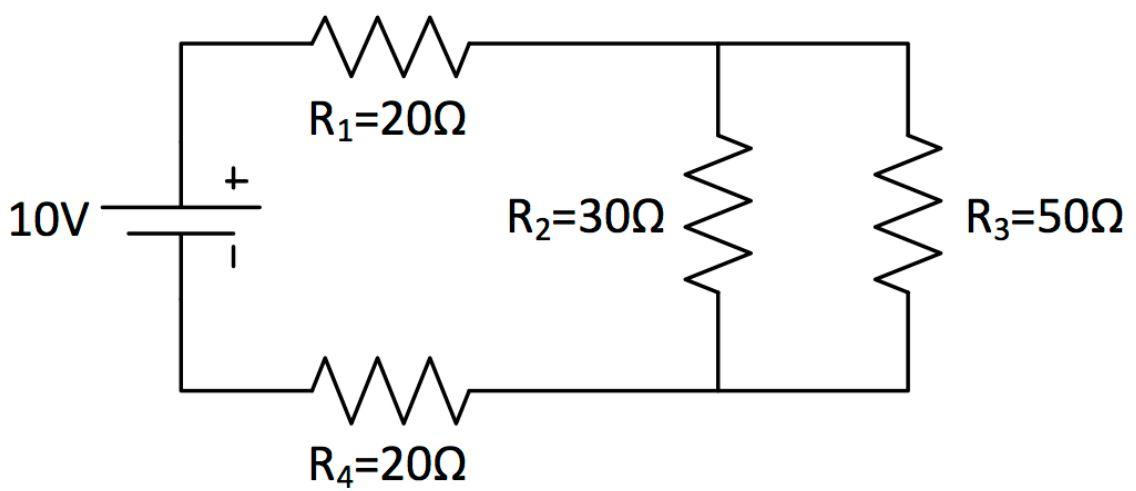resistor: (258, 337, 507, 422), (675, 106, 775, 312), (853, 104, 943, 308), (272, 10, 487, 88)
